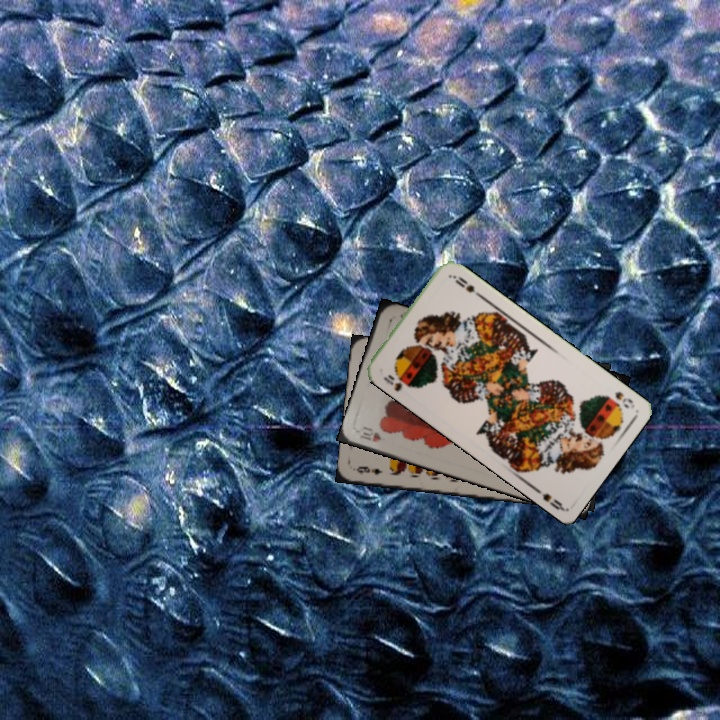E9: (353, 462, 386, 477)
H10: (356, 423, 384, 445)
SO: (379, 370, 405, 394), (611, 387, 636, 411)
